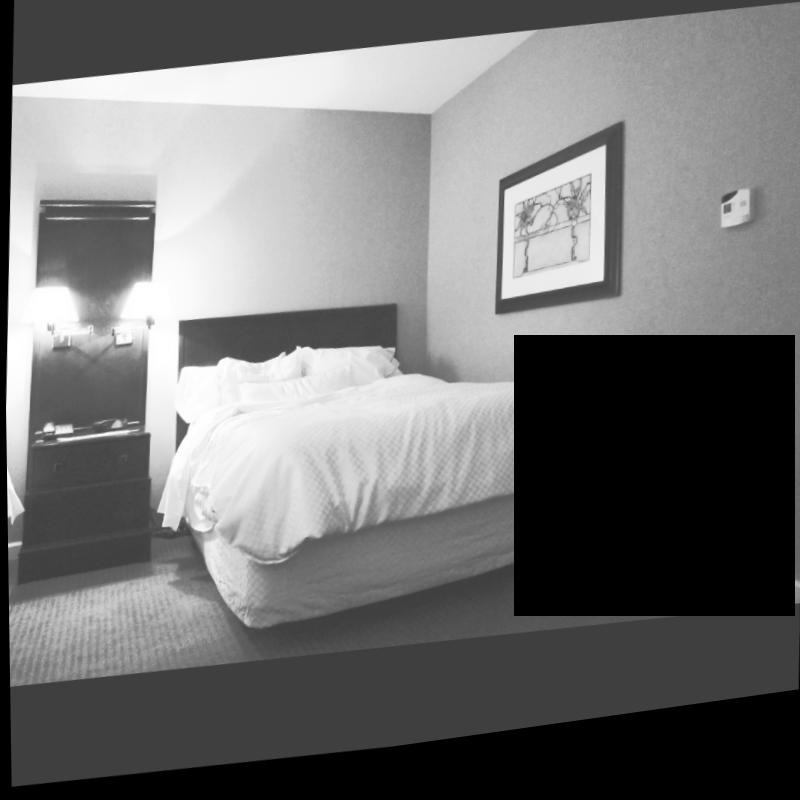pillow: (299, 345, 396, 387)
